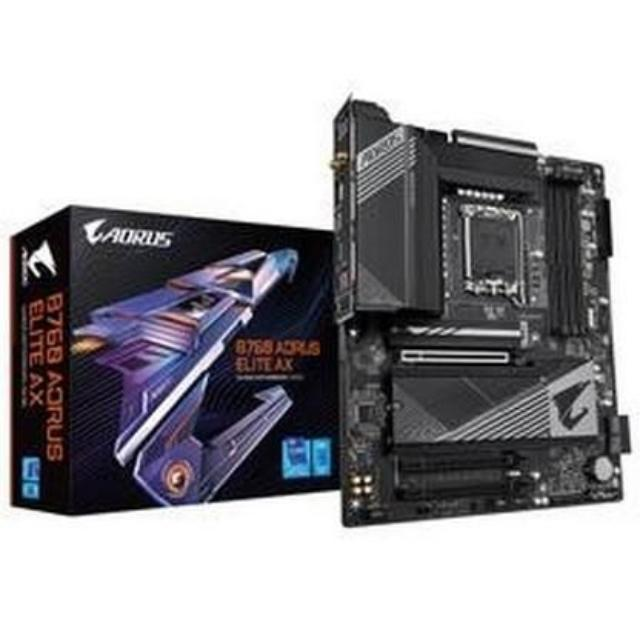Mainboard: (323, 83, 632, 531)
